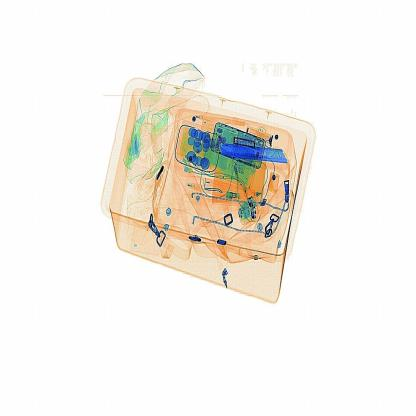pliers: (221, 144, 294, 168)
